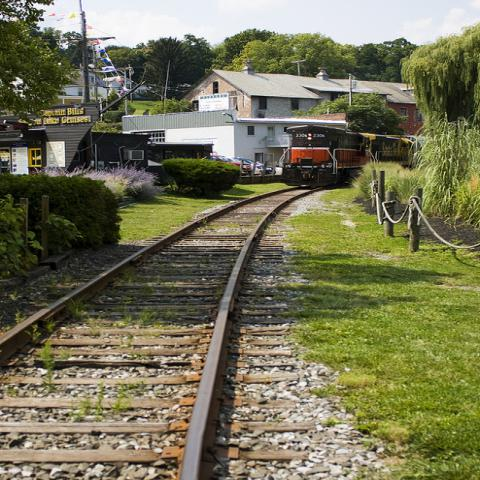car: (210, 155, 253, 175), (226, 157, 264, 177), (257, 162, 283, 176)
